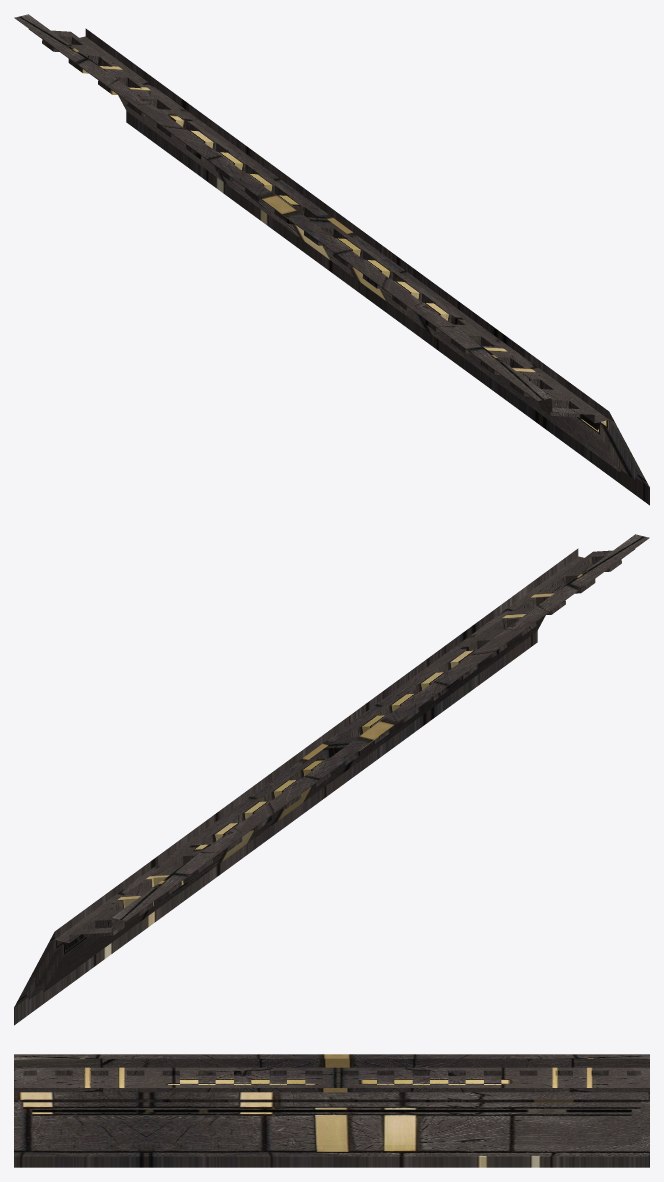
File: Moulding_Metal02.FBX
3 views of the same model, one above another, from view 1: azimuth 30°, elevation 25°; view 2: azimuth 150°, elevation 25°; view 3: azimuth 270°, elevation 25° (orthographic). The views are drawn at different scales.
Visible parts, largest first — view 1: Moulding_01; view 2: Moulding_01; view 3: Moulding_01.
Boxes of the visible parts, x1,y1,x2,y2 form: Moulding_01: (14,14,649,505); Moulding_01: (14,534,649,1025); Moulding_01: (14,1054,649,1167).
Size of the model in its own units: 38.97 by 43.74 by 315.
